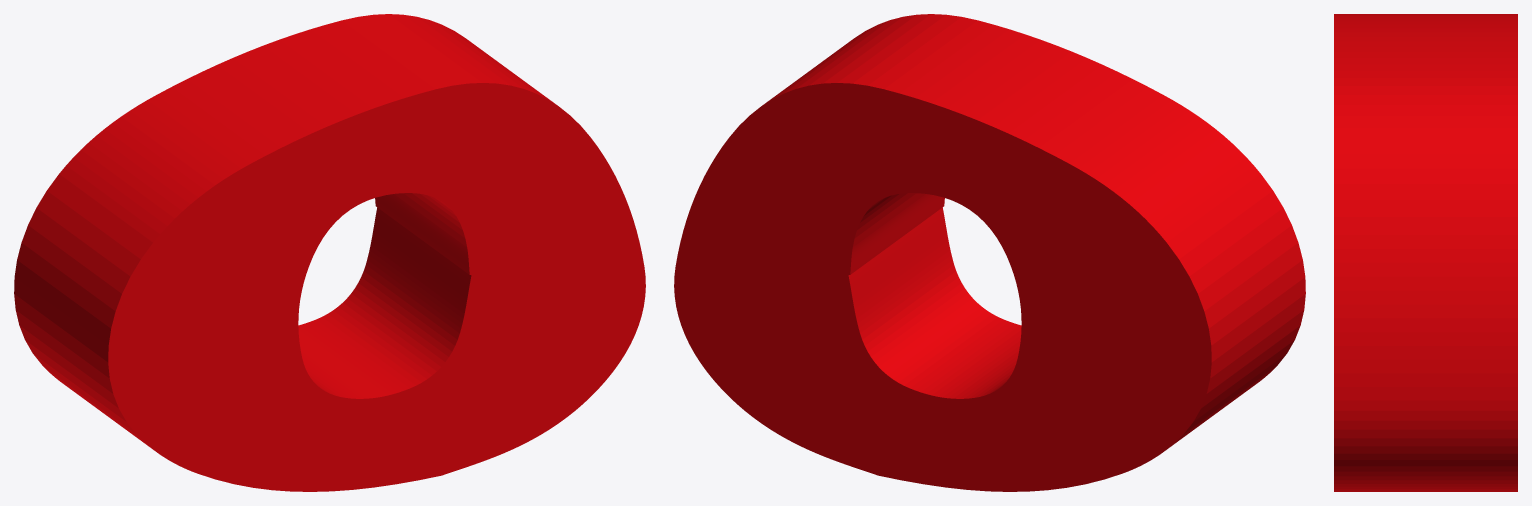
The model's file is LETTERO.gltf.
3 renders of one model, left to right at view 1: azimuth 30°, elevation 25°; view 2: azimuth 150°, elevation 25°; view 3: azimuth 270°, elevation 25°, orthographic. The views are drawn at different scales.
Parts seen in each view (by area): view 1: Curve.017; view 2: Curve.017; view 3: Curve.017.
Boxes of the visible parts, x1,y1,x2,y2 form: Curve.017: (14, 14, 645, 491); Curve.017: (674, 14, 1305, 491); Curve.017: (1334, 14, 1517, 491).
Bounding box in the file's own units: 0.1054 × 0.0727 × 0.032.
